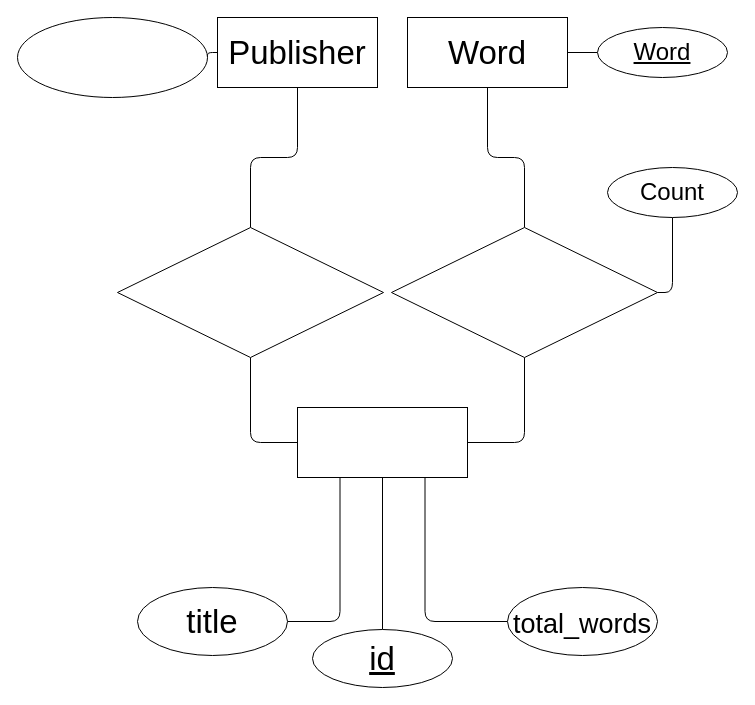
The diagram is 755 pixels wide and 705 high, and some of its shapes have lost their labels. Here are the shapes that lost their labels. From the top down, the centre of each, then its label:
point 112,57: Publisher_name
point 250,292: Publishes
point 524,292: OccursIn
point 382,442: Article
